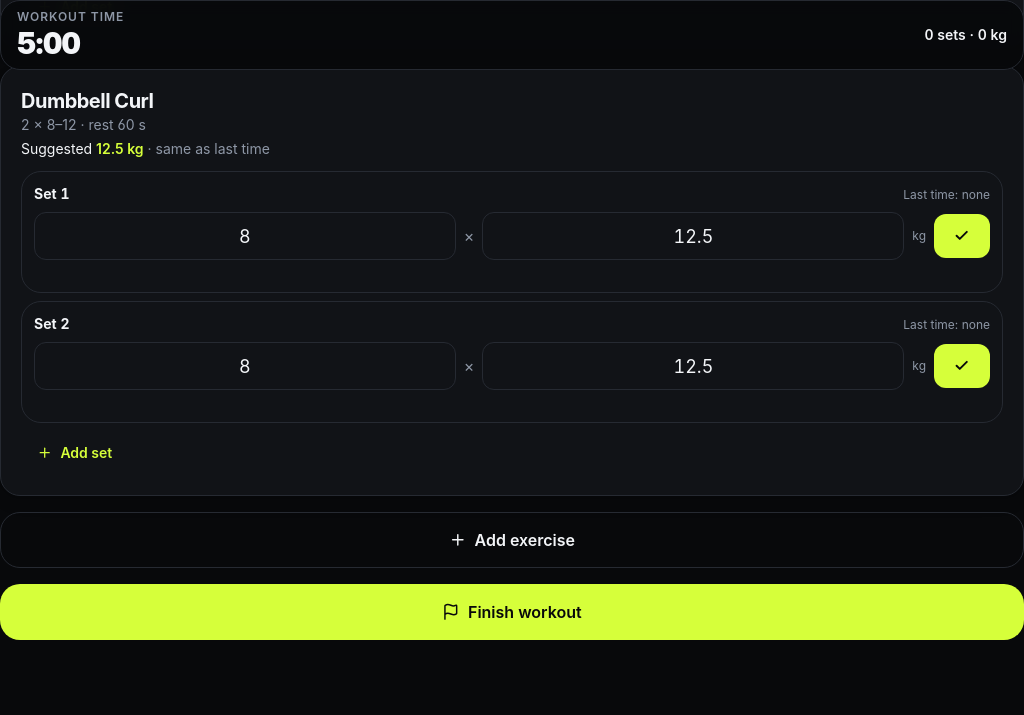
Test: workout screen › adds a set and an exercise
(page scrolled)
Click the button "Add set".
click(75, 453)  # box [21, 431, 128, 475]
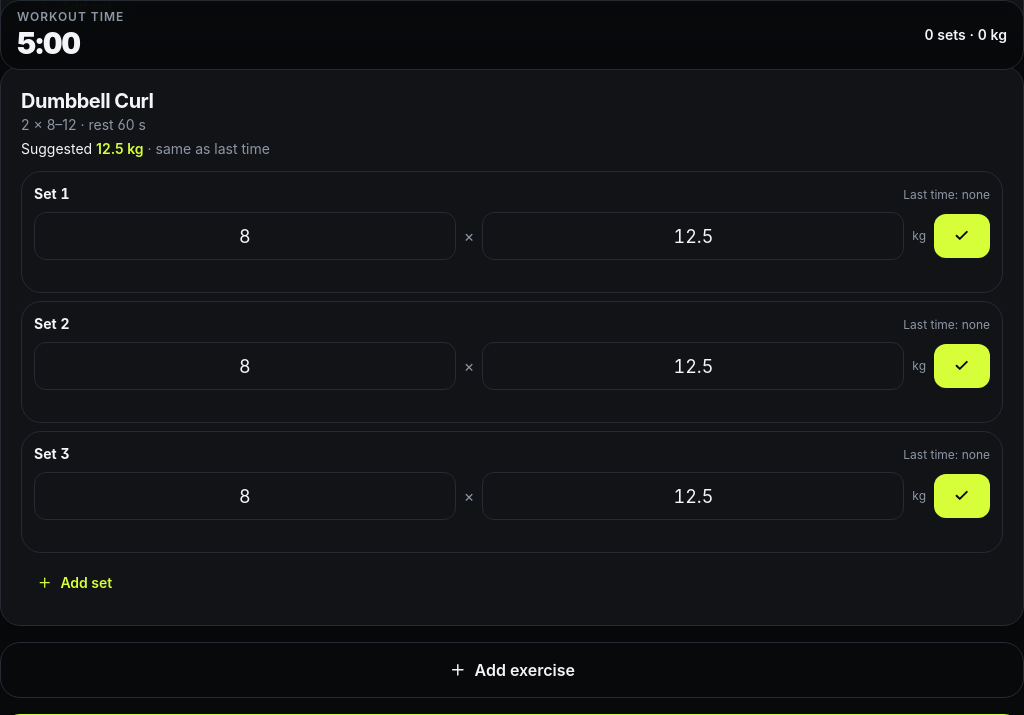
Result: the number of elements with test id "set-row" is 6
Result: the field named "Weight in kg, Dumbbell Curl set 3" holds "12.5" at [482, 472, 904, 520]
